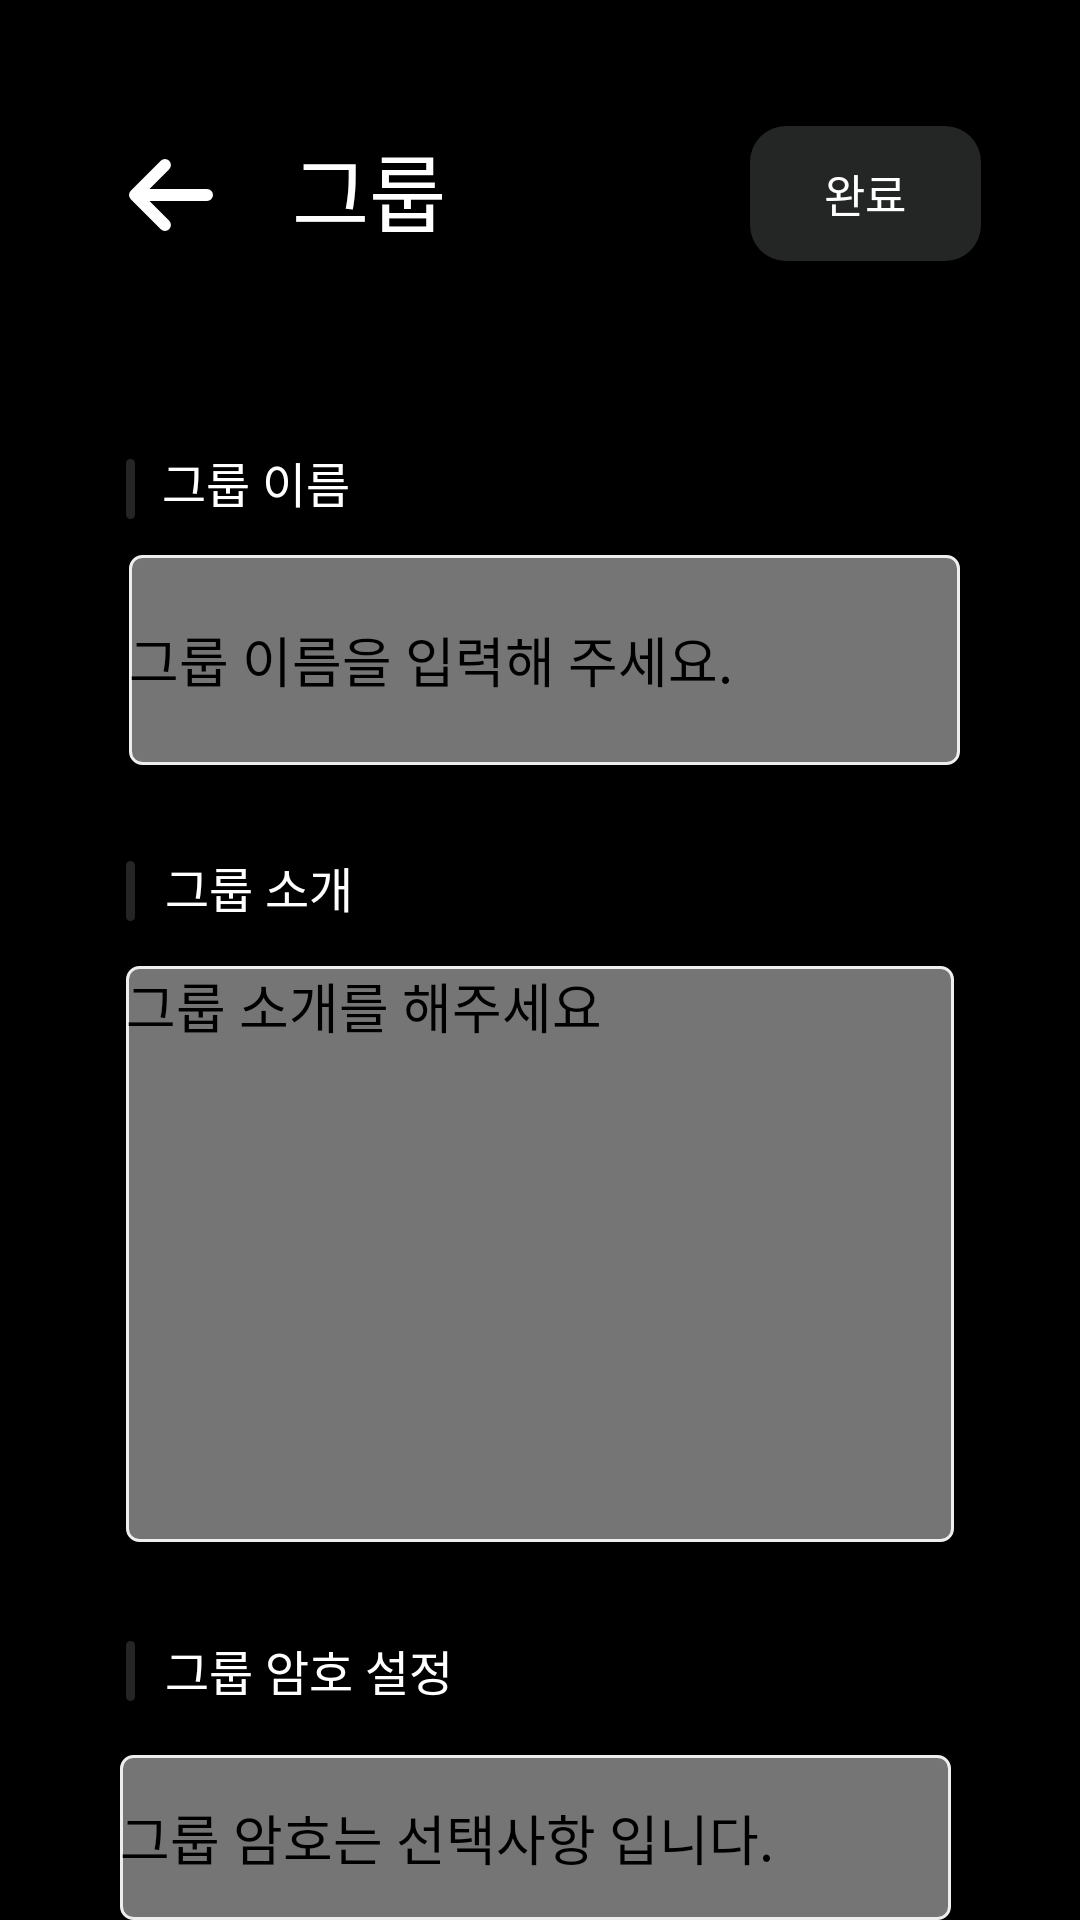

Point at icon controls on the screen. Image size 1080x1920, points as (x=x, y=y).
arrow left: (x=171, y=195)
